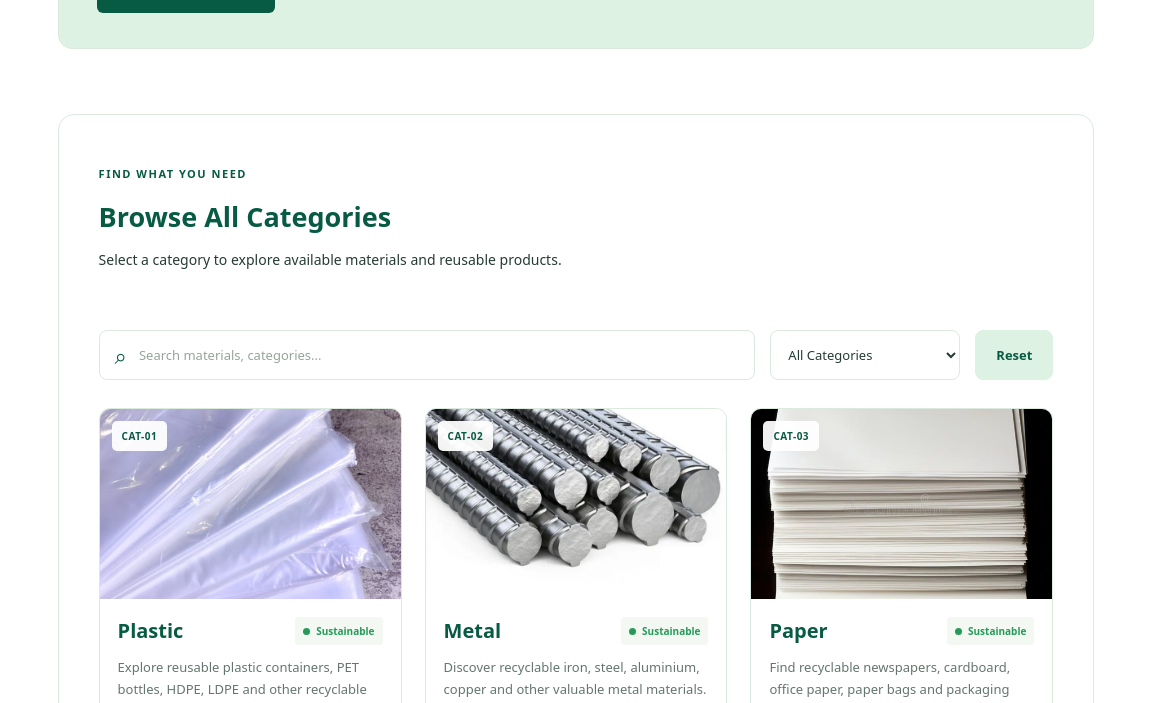
Test: Categories Component › shows no categories for an unmatched search
This screenshot has width=1152, height=703.
(page scrolled)
Step 1. Type "UnknownMaterial123" into the field named "Search categories" → [438, 355], box left=137, top=344, right=739, bottom=366
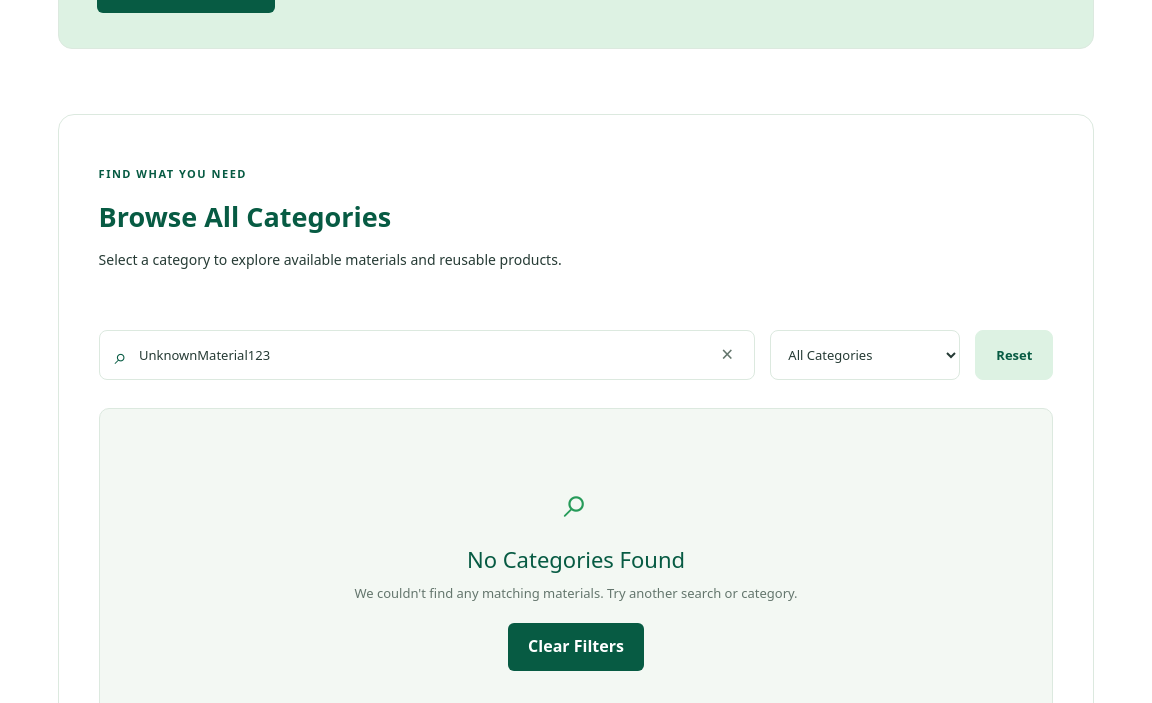
Now the heading "No Categories Found" is shown, box left=467, top=544, right=685, bottom=574
